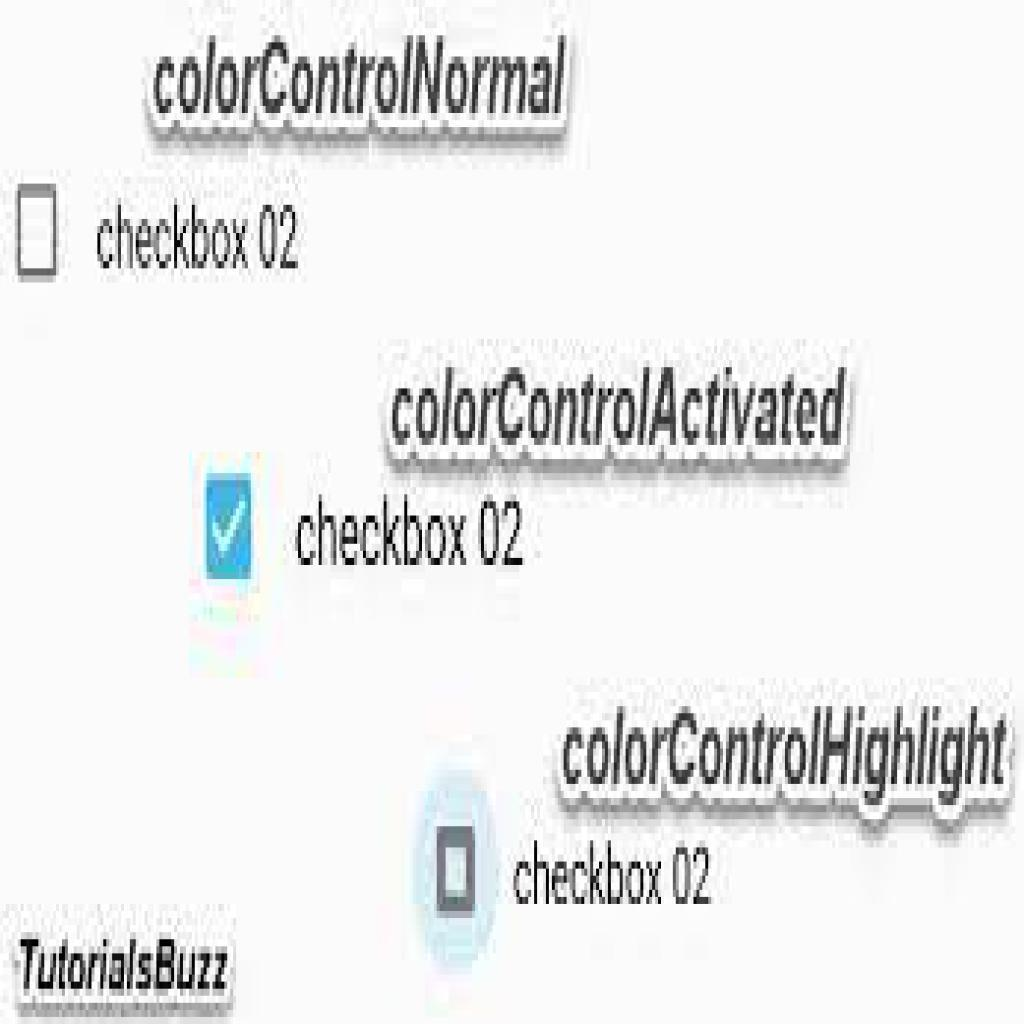checkbox: (205, 476, 251, 577), (16, 183, 59, 276), (436, 826, 475, 916)
label: (291, 493, 527, 572), (86, 196, 310, 275), (510, 839, 716, 910)
